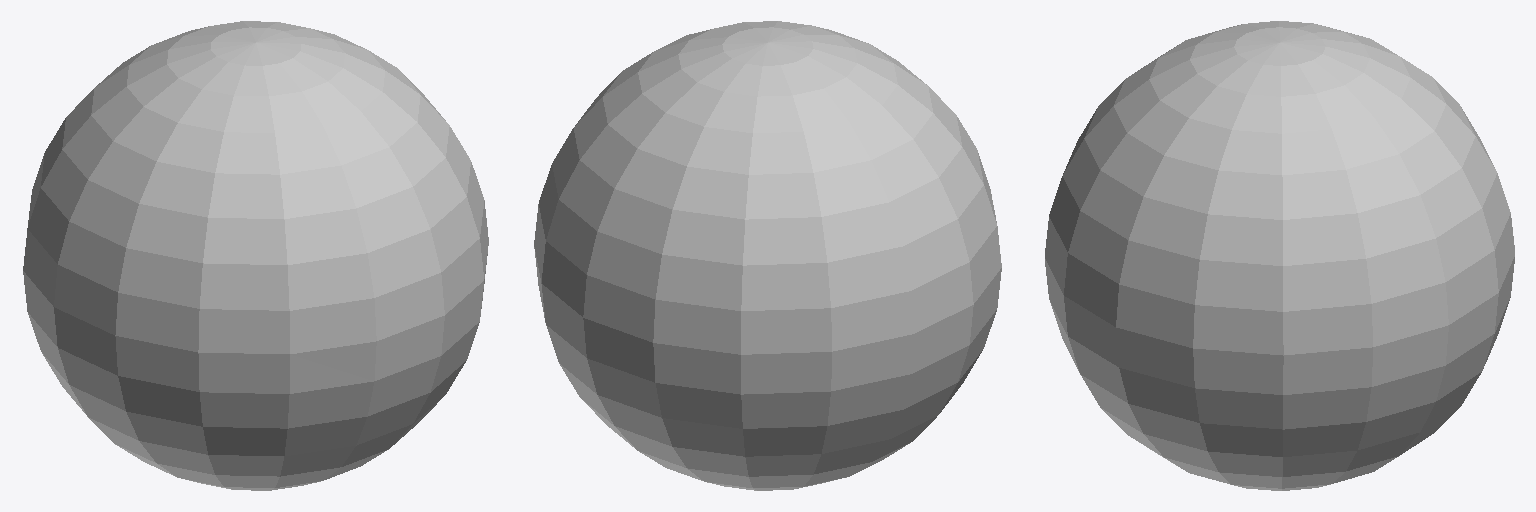
File: Ball.obj
The picture shows the model from 3 angles: view 1: azimuth 30°, elevation 25°; view 2: azimuth 150°, elevation 25°; view 3: azimuth 270°, elevation 25°; orthographic projection.
Size of the model in its own units: 2 by 2 by 2.